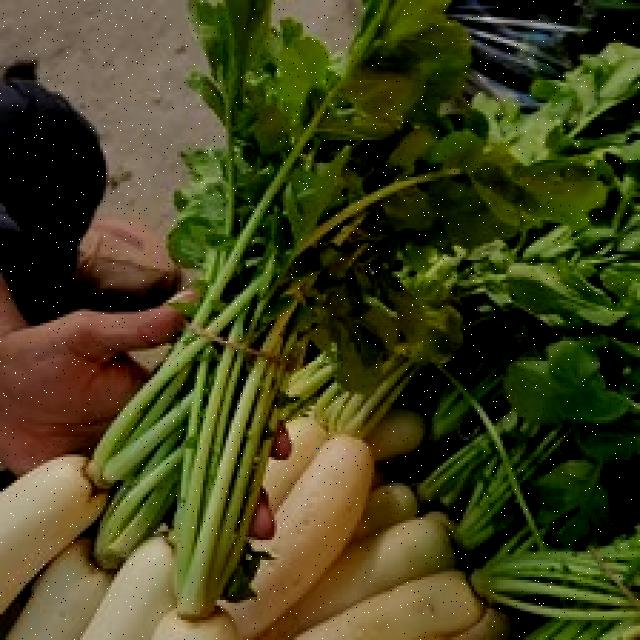Radish: (209, 407, 410, 640), (0, 430, 133, 626), (379, 548, 530, 640)
